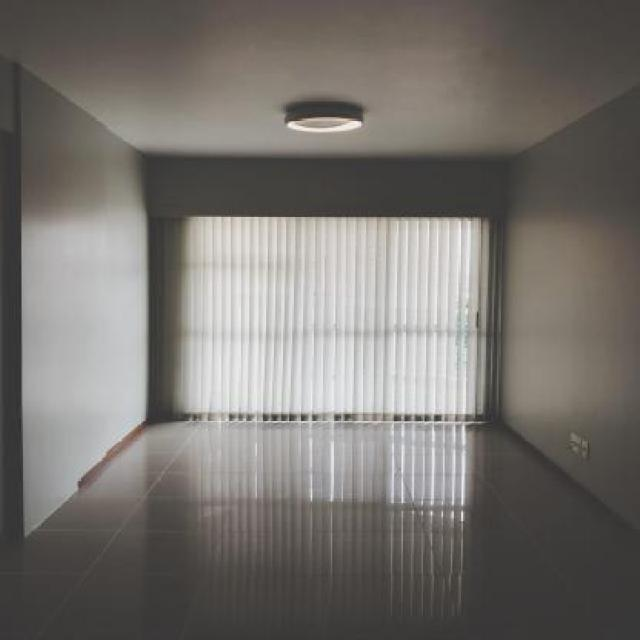Floor: (1, 418, 638, 640)
